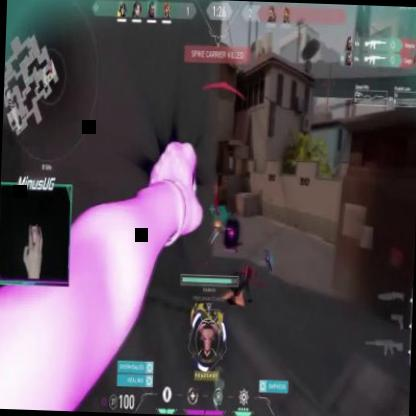enemy: (208, 178, 223, 216)
enemy_head: (212, 178, 217, 185)
